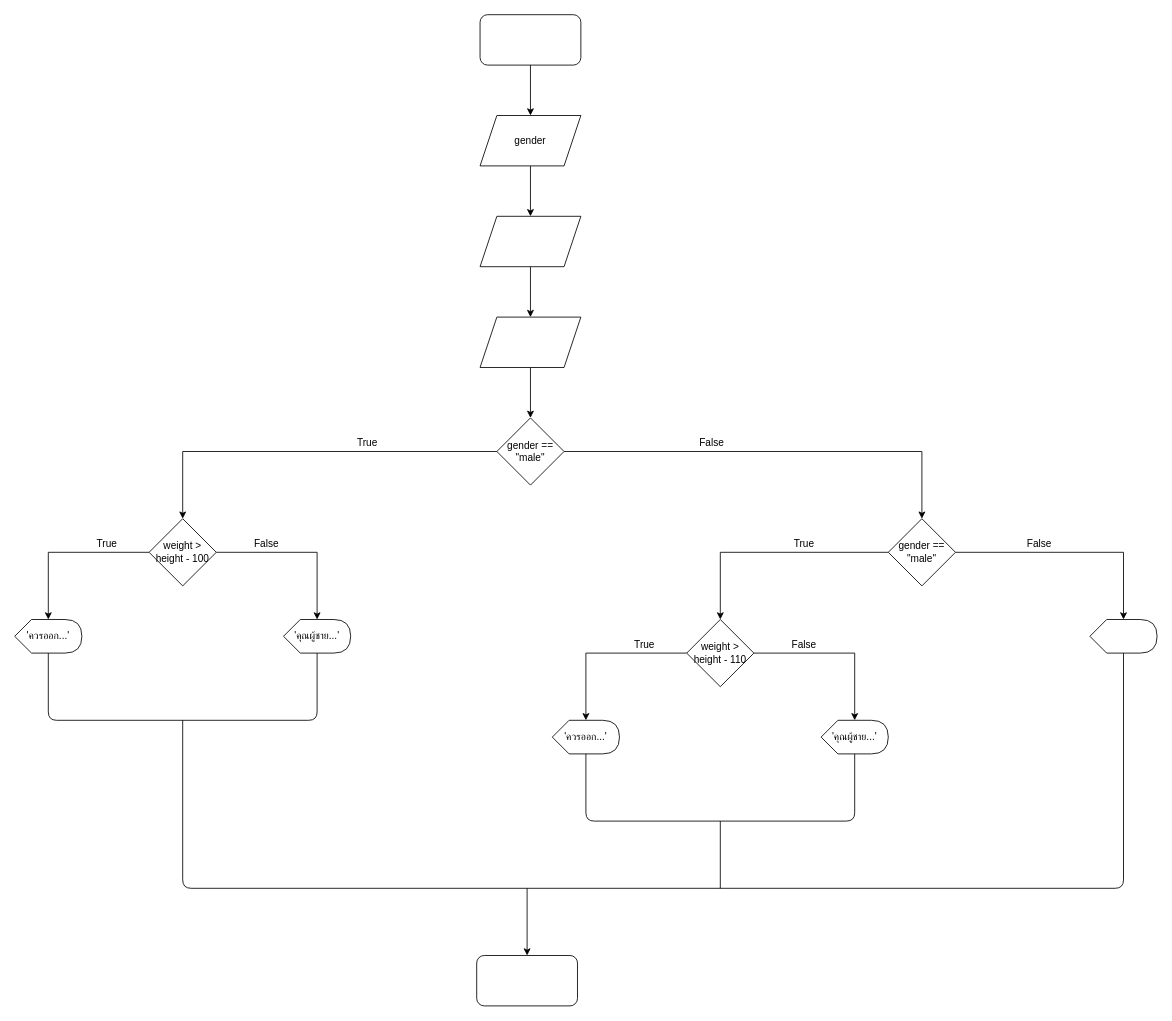
Image size: 1172x1021. Some labels were removed from this diagram. The shapes that lost their labels are listed below. From the top down, each one's centre as x and y in pixels, then its label:
At (530,39): "start".
At (530,241): "weight".
At (530,342): "height".
At (1123,636): "'กรุณากรอก..'".
At (527,980): "End".
